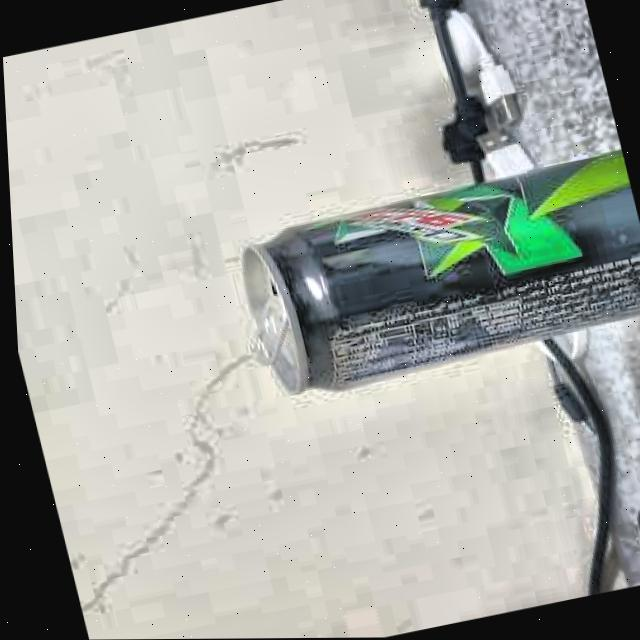metal: (214, 111, 640, 415)
